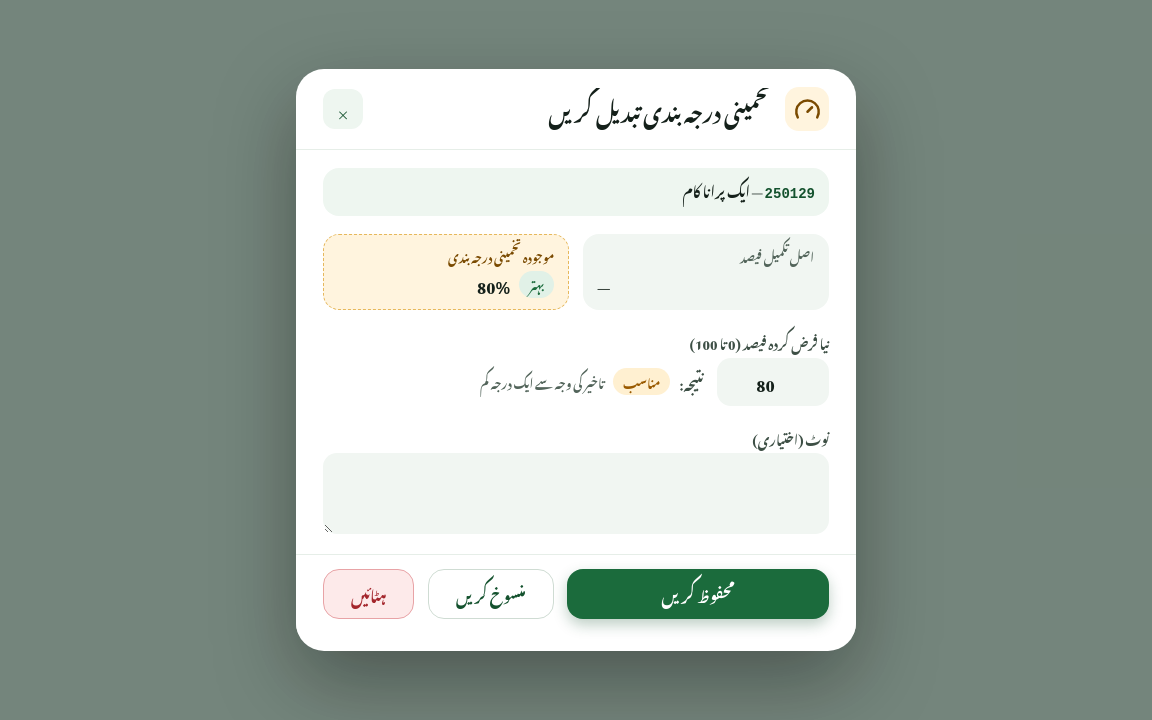
Test: the dialog preview › late task, 60%: کمزور, and no hint — nothing was lowered
The image size is (1152, 720).
Replace the text in the number field labelled "نیا فرض کردہ فیصد (0 تا 100)" with "60" at (773, 382), box [717,358,829,406]
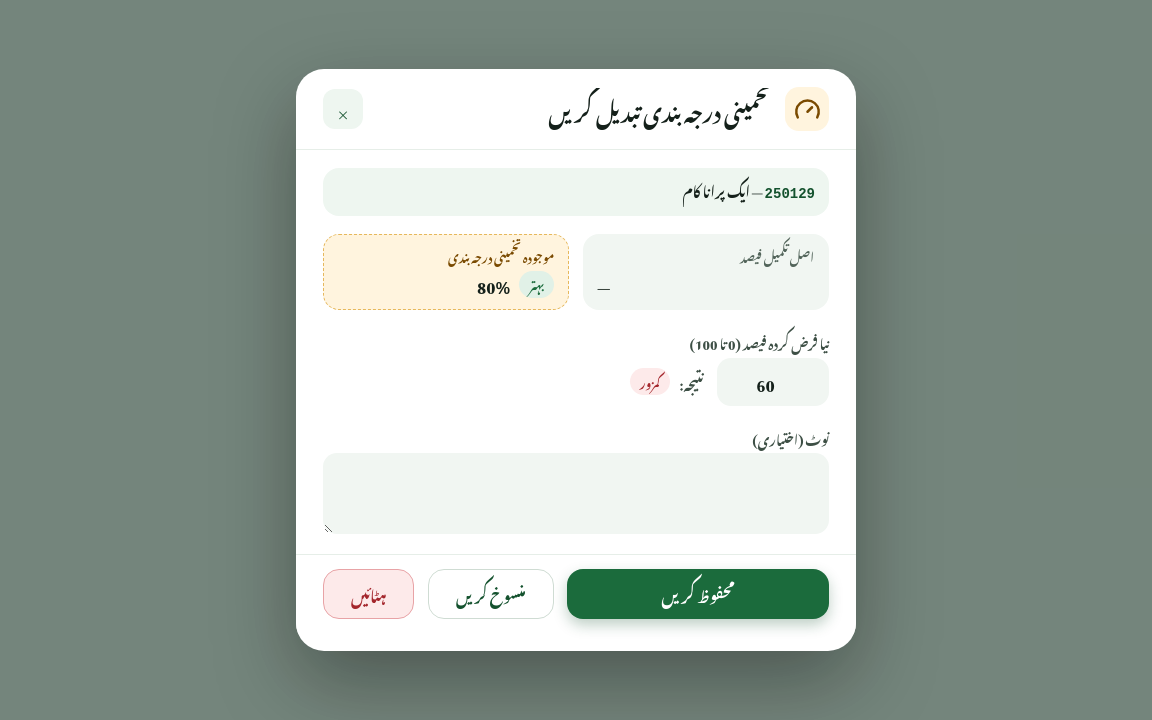
Check: the element with id "synthetic-percent-preview" shows "کمزور", box [640,366,660,396]
Check: the text "تاخیر کی وجہ سے ایک درجہ کم" is gone
